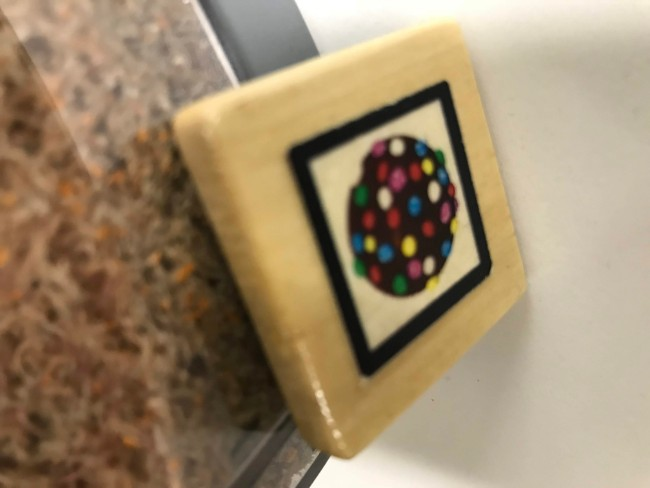cookie: (273, 74, 510, 390)
